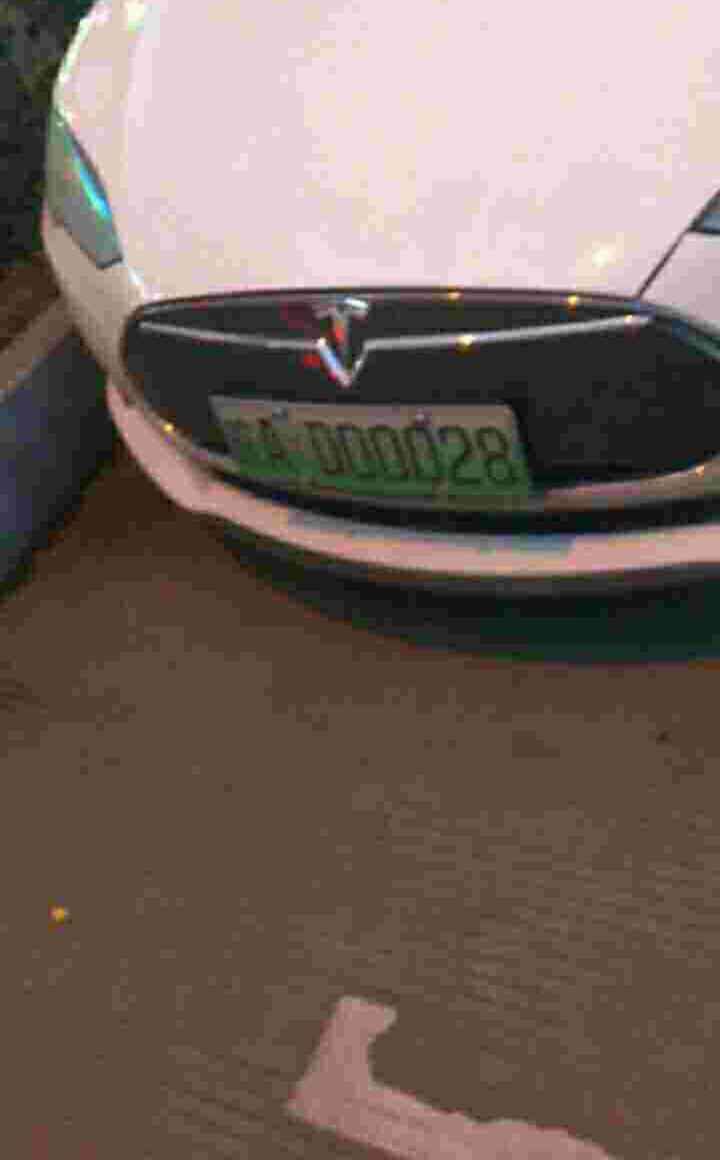car_id: (209, 398, 534, 496)
